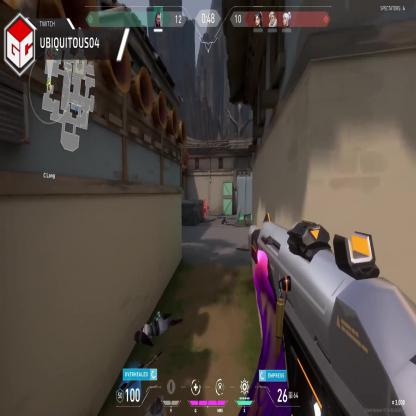enemy: (203, 199, 207, 219)
enemy_head: (204, 199, 206, 203)
